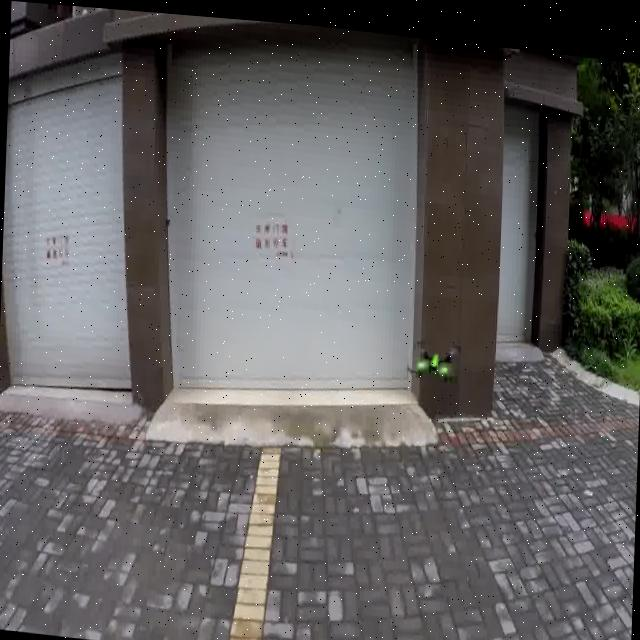drone: (396, 315, 473, 378)
